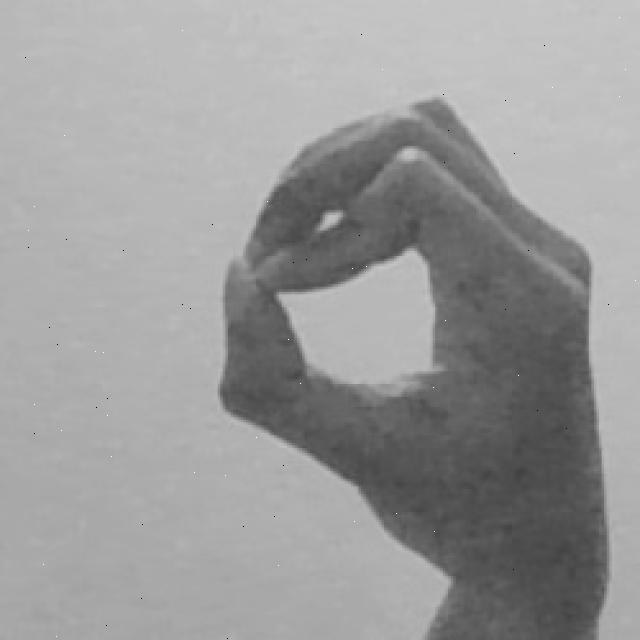O: (208, 87, 617, 640)
